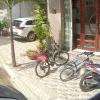bicycles: (35, 41, 70, 78)
